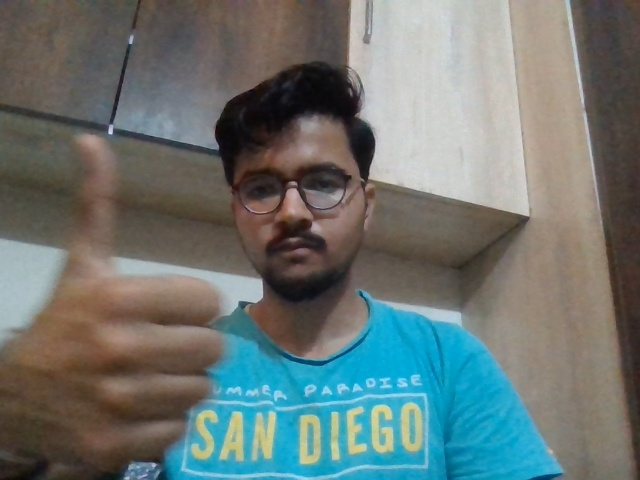yes: (39, 121, 222, 476)
